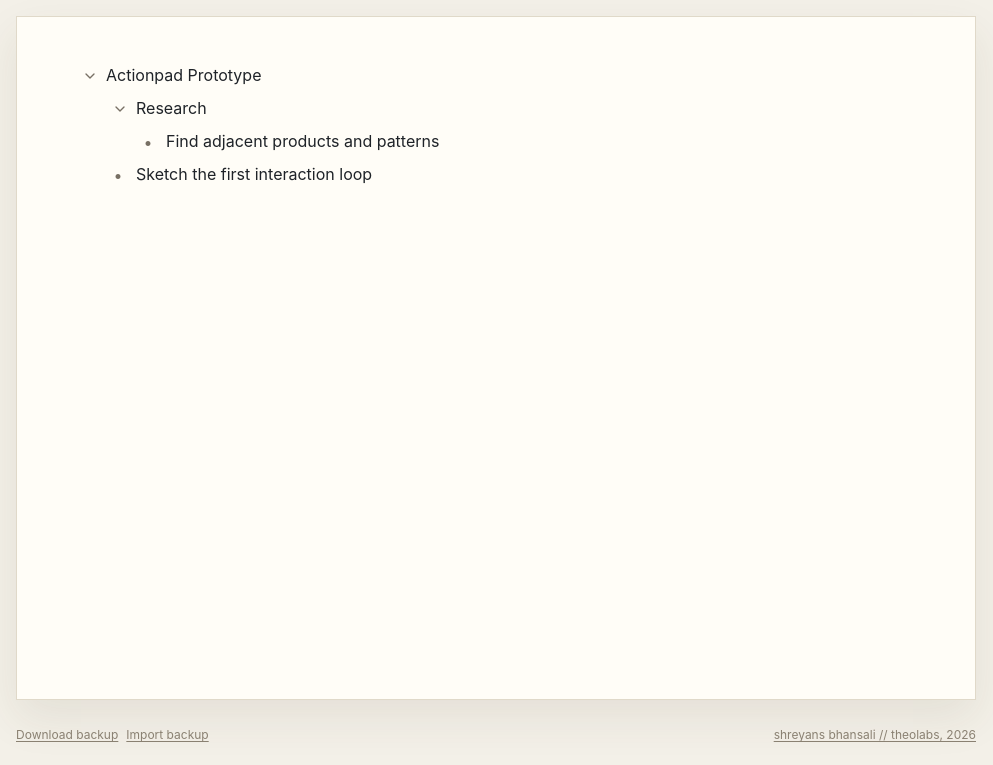
Test: downloads large IndexedDB backups without stringifying the whole backup at once
What coordinates should you click on to do the following:
click the button "Download backup"
I would click on:
 (67, 736)
Its box is [16, 723, 118, 748].
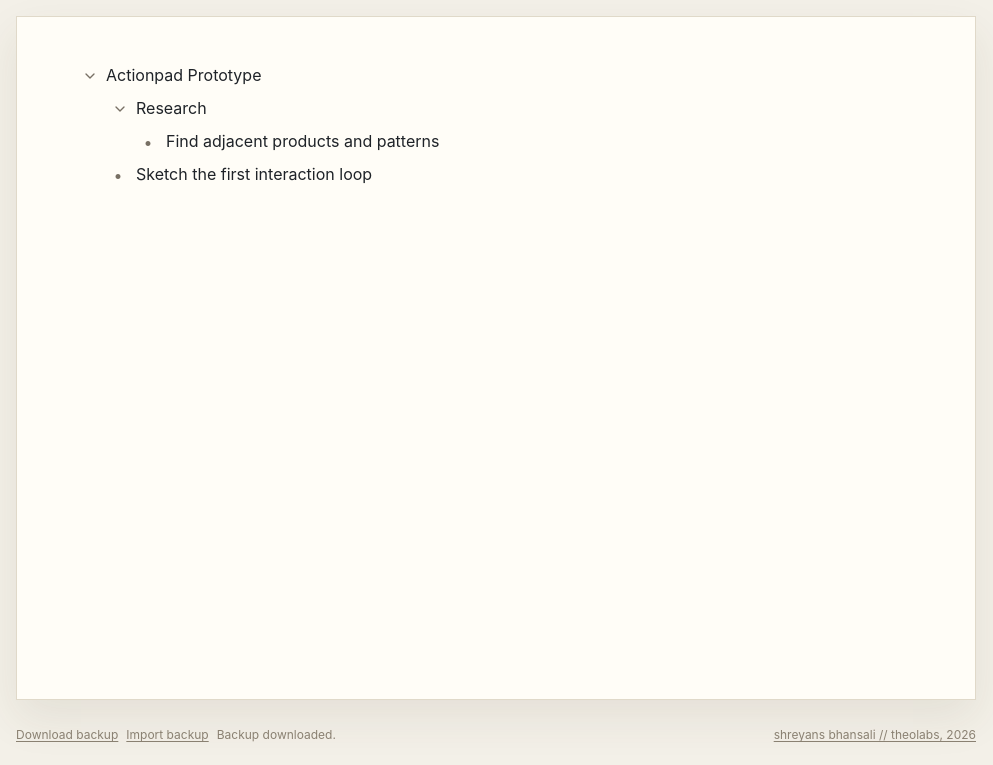
Expected: the text "Backup downloaded." is shown, [217, 727, 336, 744]
